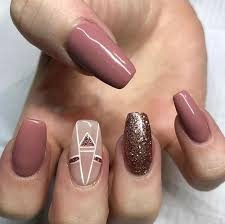nail: (68, 20, 136, 90), (69, 119, 103, 186), (11, 117, 47, 177), (173, 90, 210, 143), (124, 111, 153, 175)
